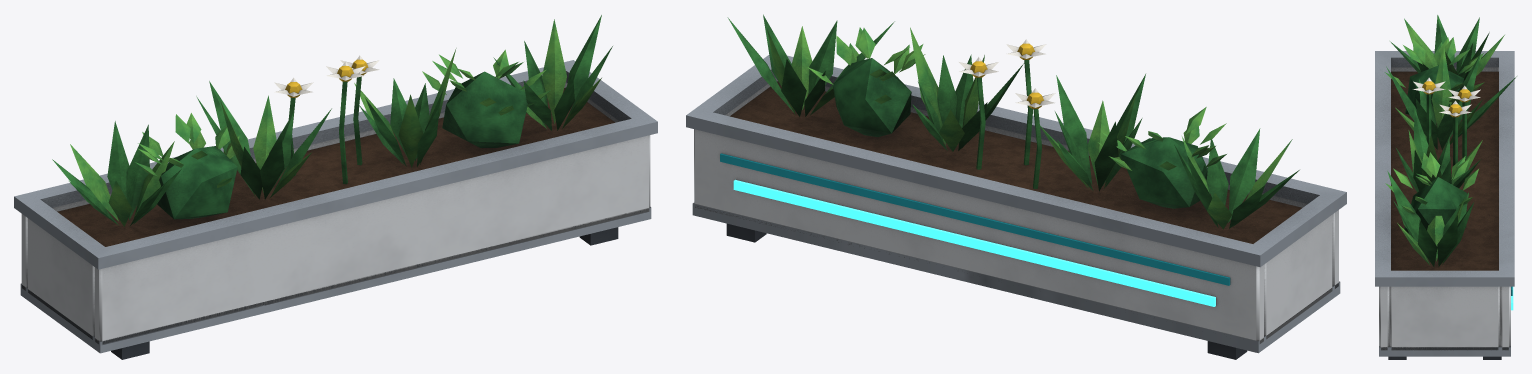
The model's file is jardinera.fbx.
The picture shows the model from 3 angles, left to right: view 1: azimuth 30°, elevation 25°; view 2: azimuth 150°, elevation 25°; view 3: azimuth 270°, elevation 25°; orthographic projection. The views are drawn at different scales.
Visible parts, largest first — view 1: jardinera; view 2: jardinera, jardinera_neon; view 3: jardinera.
Part boxes in pixels (x1,y1,x2,y2): jardinera: (14, 15, 657, 359); jardinera: (686, 14, 1346, 359); jardinera_neon: (733, 179, 1215, 306); jardinera: (1375, 15, 1516, 359).
Bounding box in the file's own units: 4.06 × 1.5 × 1.08.
2 materials, 2 textured.
